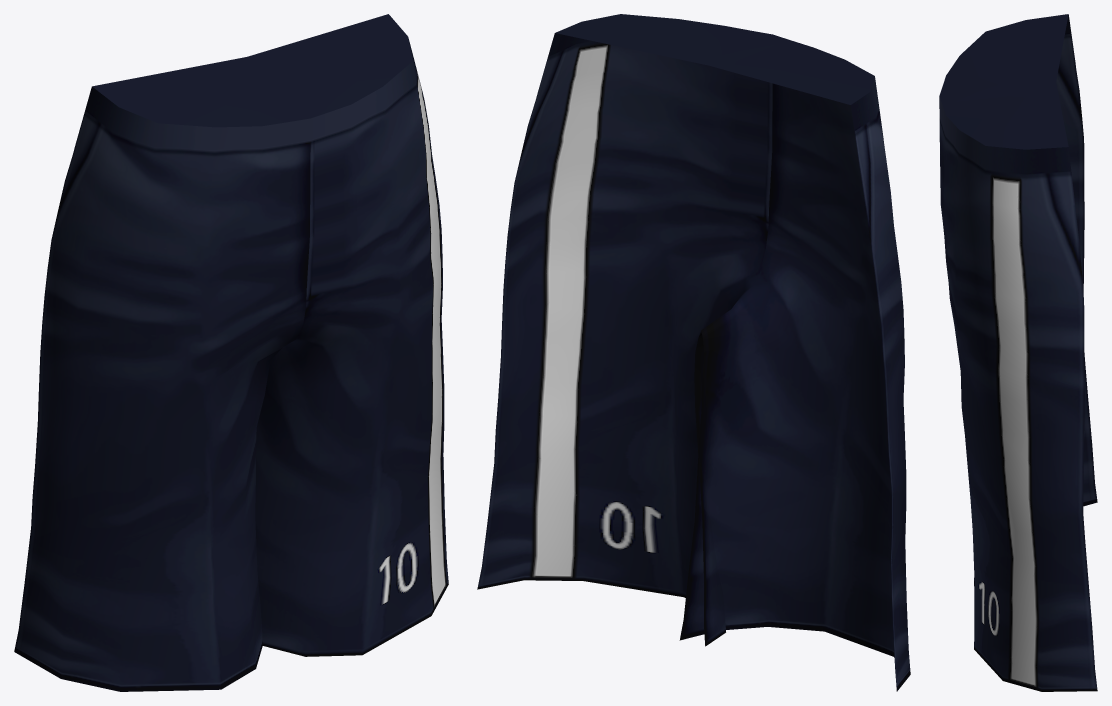
The model's file is M_Lower_dadiku_02_02_qian.FBX.
3 views of the same model, side by side, from view 1: azimuth 30°, elevation 25°; view 2: azimuth 150°, elevation 25°; view 3: azimuth 270°, elevation 25° (orthographic). The views are drawn at different scales.
Parts seen in each view (by area): view 1: M_Lower_dadiku_02_02_qian; view 2: M_Lower_dadiku_02_02_qian; view 3: M_Lower_dadiku_02_02_qian.
Boxes of the visible parts, left/top/right/bottom form: M_Lower_dadiku_02_02_qian: left=14, top=14, right=448, bottom=691; M_Lower_dadiku_02_02_qian: left=477, top=14, right=910, bottom=691; M_Lower_dadiku_02_02_qian: left=939, top=14, right=1097, bottom=691.
Bounding box in the file's own units: 36.6 × 48.59 × 12.97.
Materials: 1 (1 with a texture image).
